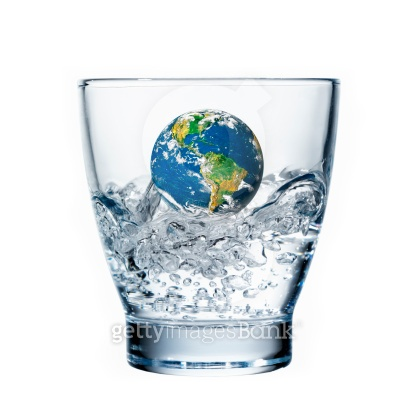glass of water: (71, 63, 342, 380)
